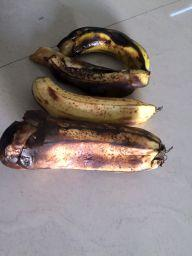banana: (0, 108, 175, 175), (30, 74, 165, 129), (27, 44, 152, 99), (55, 23, 153, 75)
